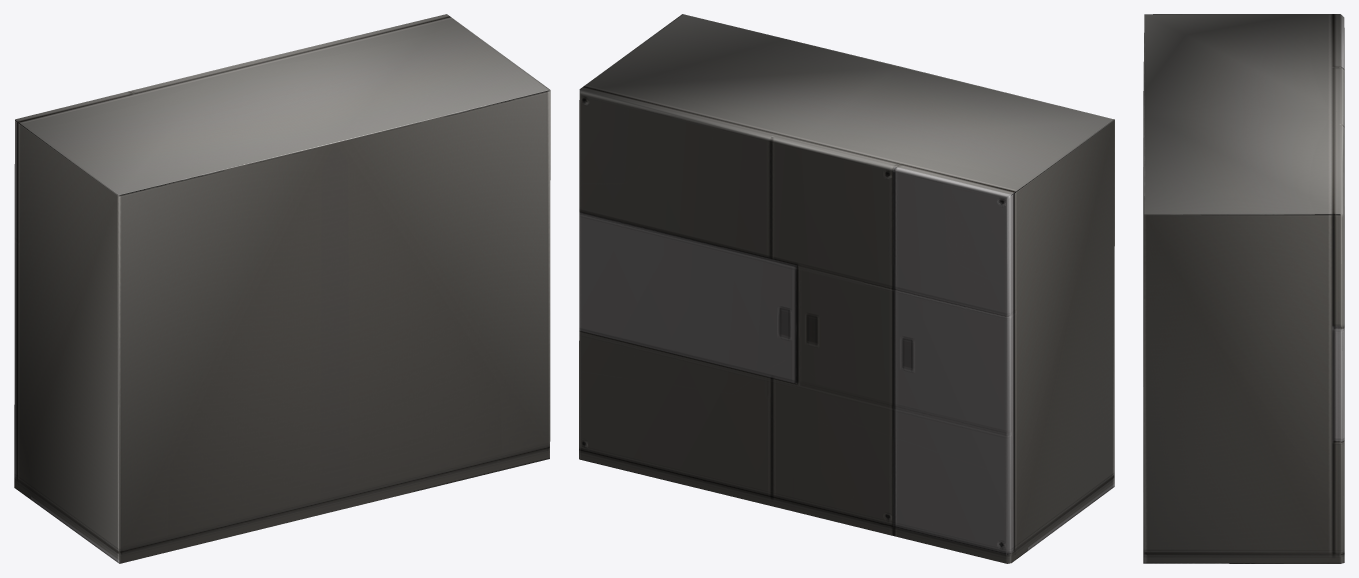
File: Drawer7.fbx
3 renders of one model, left to right at view 1: azimuth 30°, elevation 25°; view 2: azimuth 150°, elevation 25°; view 3: azimuth 270°, elevation 25°, orthographic. The views are drawn at different scales.
Parts seen in each view (by area): view 1: low_drawer7:RetopoGroup1; view 2: low_drawer7:RetopoGroup1; view 3: low_drawer7:RetopoGroup1.
Part boxes in pixels (x1,y1,x2,y2): low_drawer7:RetopoGroup1: [14, 14, 550, 563]; low_drawer7:RetopoGroup1: [579, 14, 1114, 563]; low_drawer7:RetopoGroup1: [1143, 14, 1344, 563].
Bounding box in the file's own units: 236 × 192 × 100.
